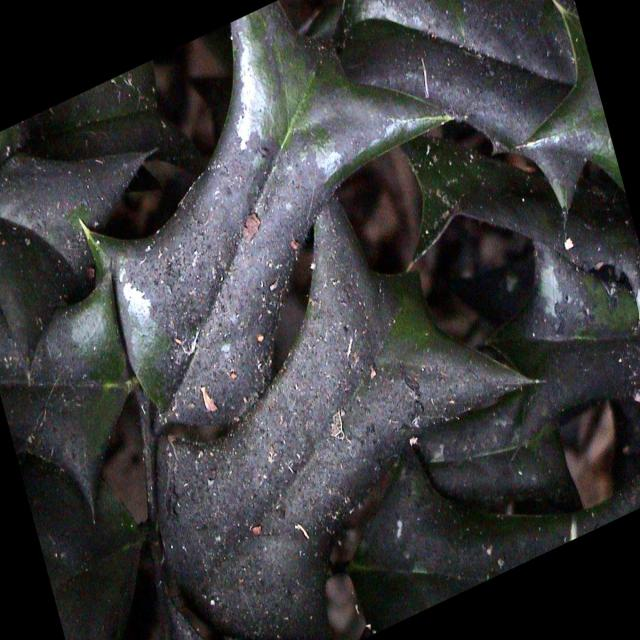Sooty Mold: (2, 1, 637, 637)
